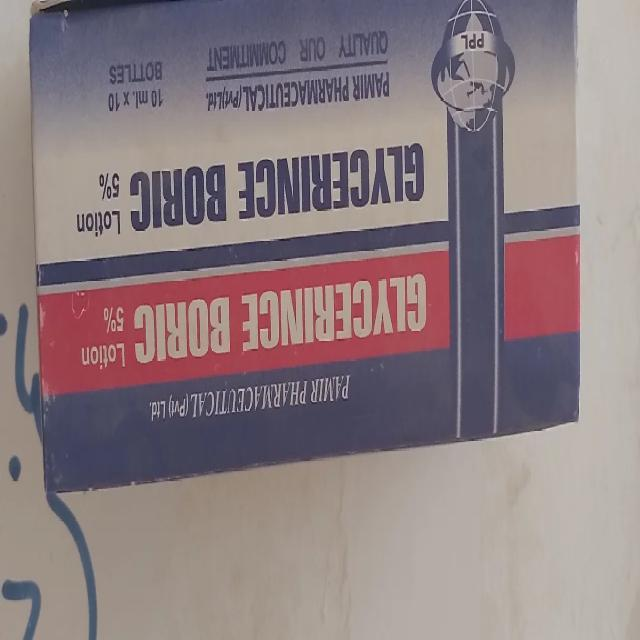drug-name: (129, 259, 432, 381)
